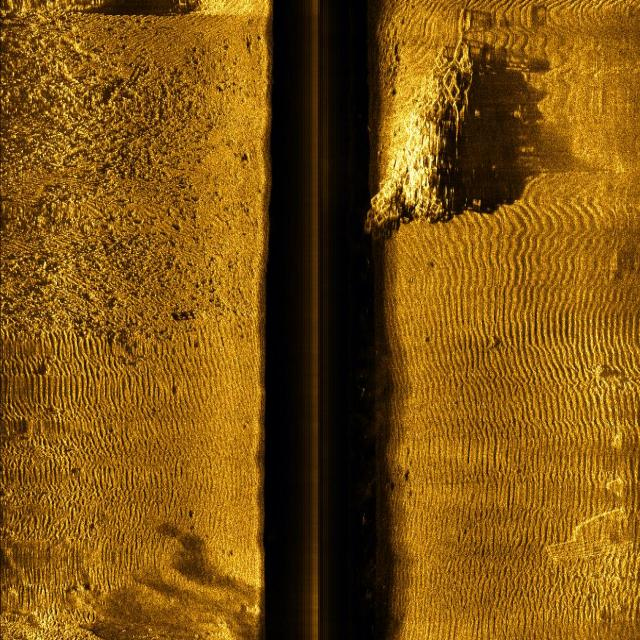artificial reef: (362, 34, 493, 255)
